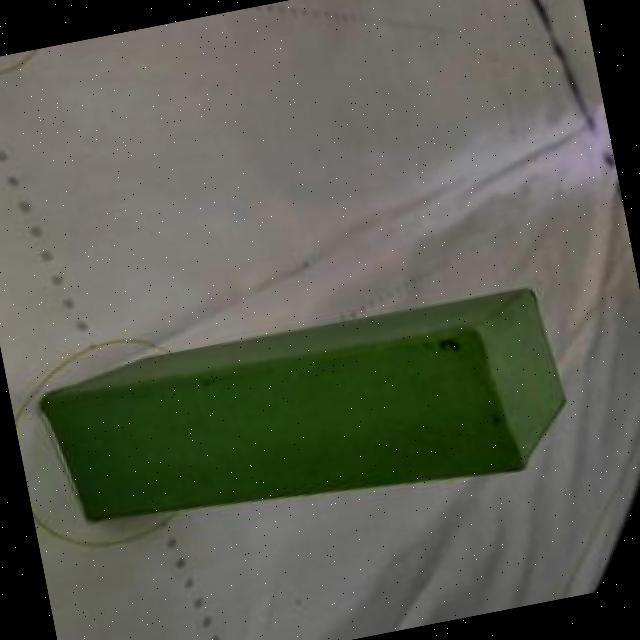greenbox: (33, 281, 580, 561)
